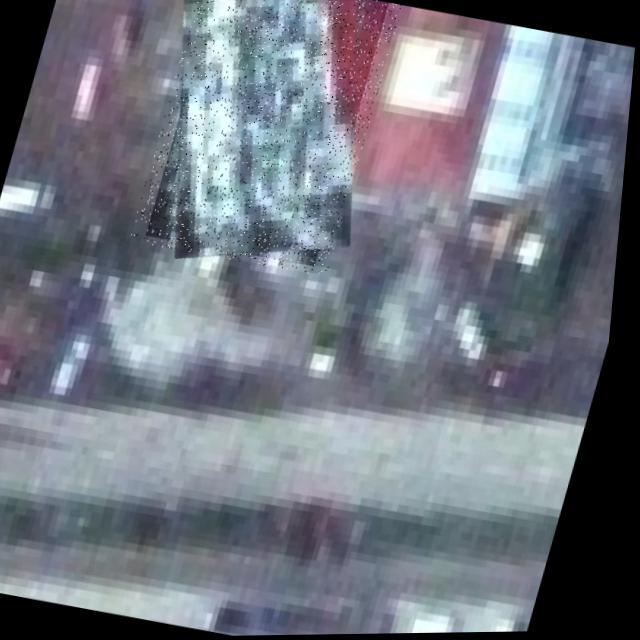Rubble: (130, 0, 403, 279)
